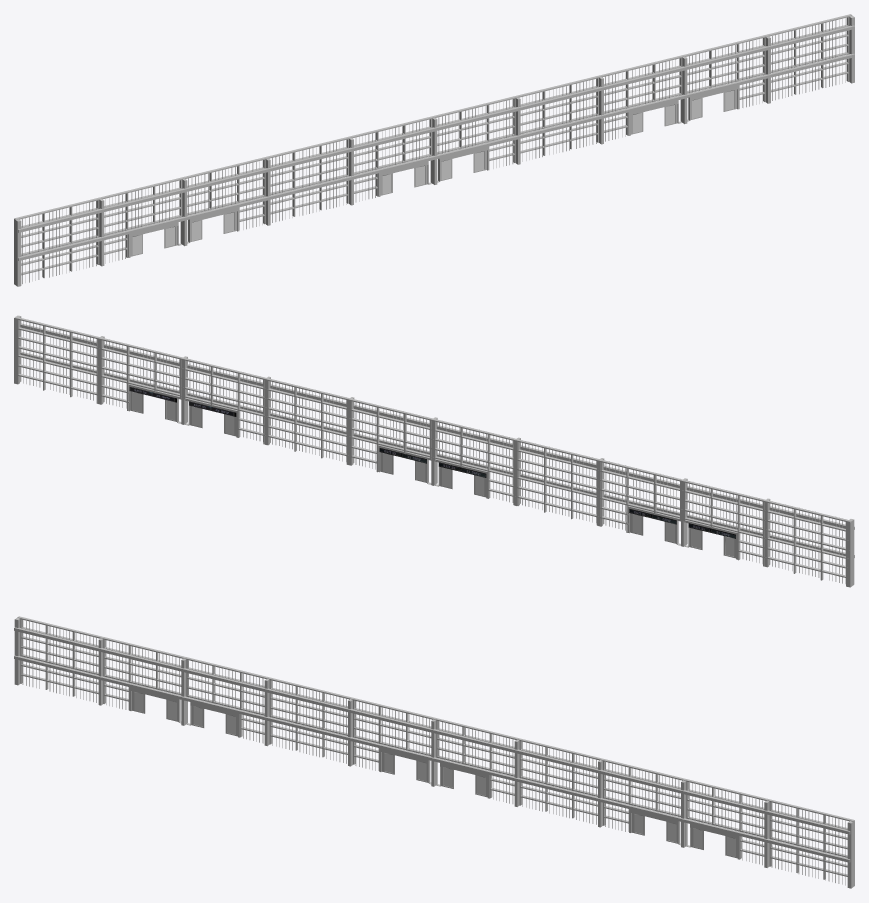
The model's file is Wall Glass.fbx.
3 views of the same model, one above another, from view 1: azimuth 30°, elevation 25°; view 2: azimuth 150°, elevation 25°; view 3: azimuth 330°, elevation 25° (orthographic).
Parts seen in each view (by area): view 1: Mirror wall; view 2: Mirror wall; view 3: Mirror wall.
Boxes of the visible parts, box(x1,y1,x2,y2) form: Mirror wall: box(14, 14, 854, 286); Mirror wall: box(14, 315, 854, 587); Mirror wall: box(14, 616, 854, 888).
Bounding box in the file's own units: 93.12 × 7 × 0.9053.
